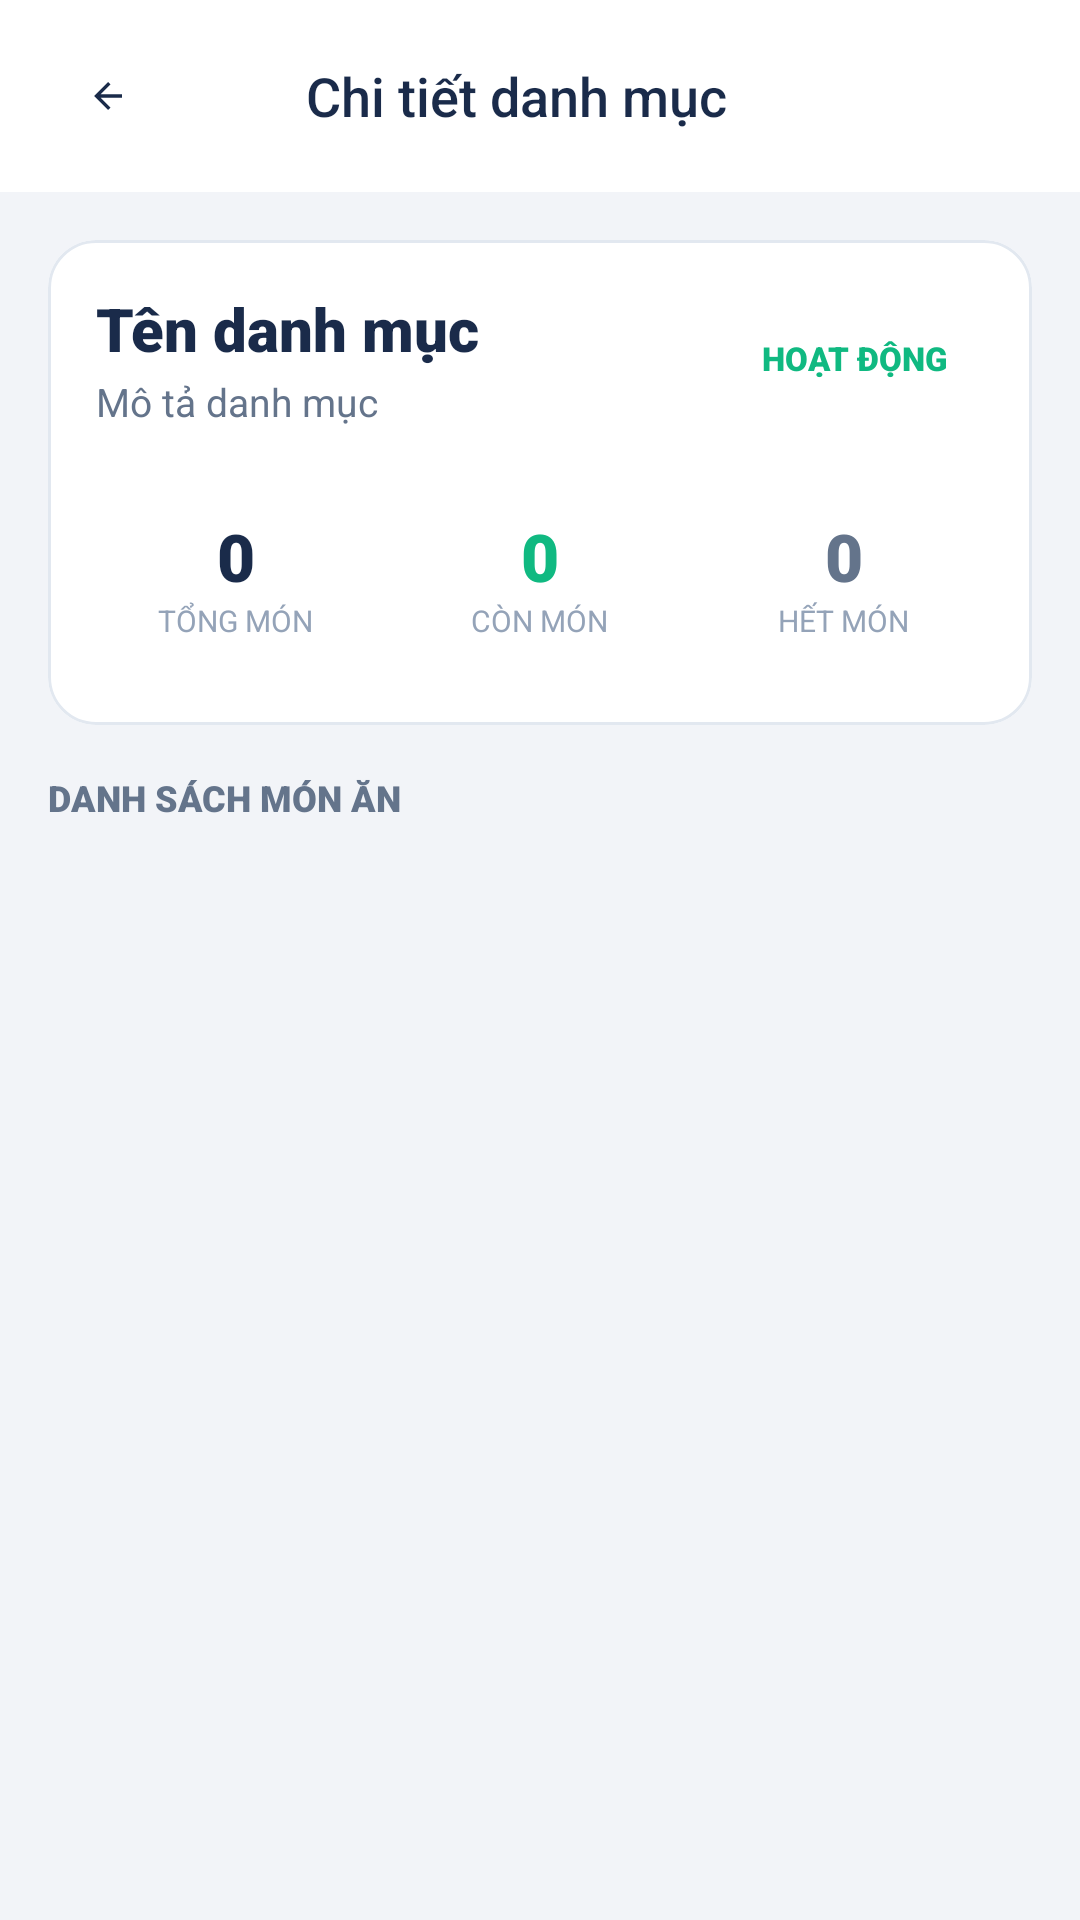

Where icons sit on this 1080px×1920px app screen, as (x1, y1, x2, y2):
Quay lại: (94, 82, 122, 110)
